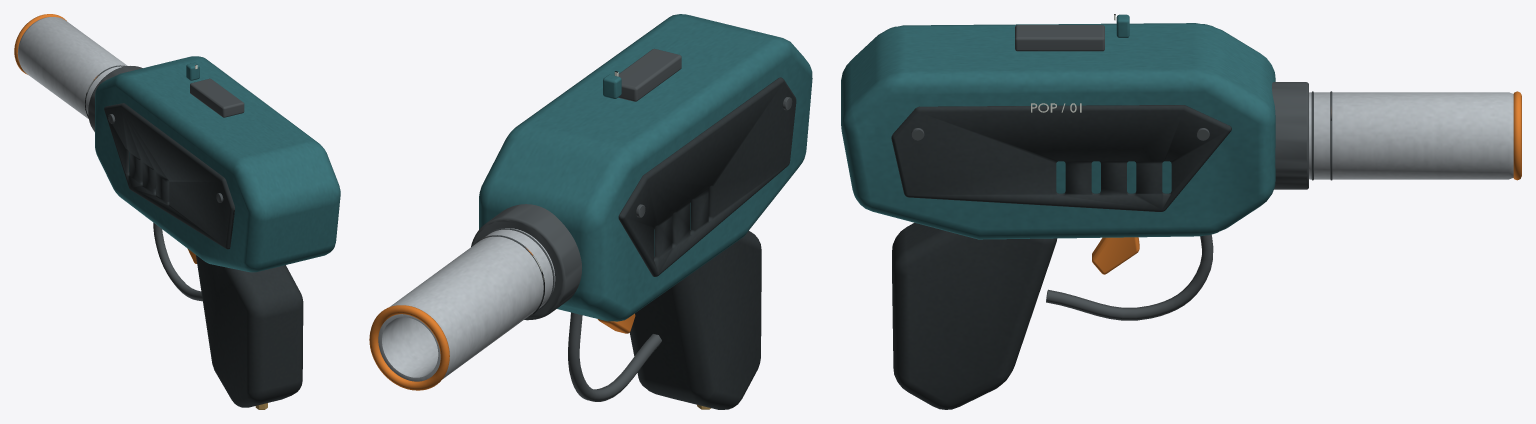
File: pop-blaster.glb
3 views of the same model, side by side, from view 1: azimuth 30°, elevation 25°; view 2: azimuth 150°, elevation 25°; view 3: azimuth 270°, elevation 25° (orthographic). The views are drawn at different scales.
Visible parts, largest first — view 1: pop-blaster; view 2: pop-blaster; view 3: pop-blaster.
Boxes of the visible parts, box(x1,y1,x2,y2) form: pop-blaster: box(14, 14, 340, 409); pop-blaster: box(369, 14, 812, 409); pop-blaster: box(841, 14, 1521, 409).
Bounding box in the file's own units: 0.172 × 0.462 × 0.7326.
9 materials, 9 textured.
